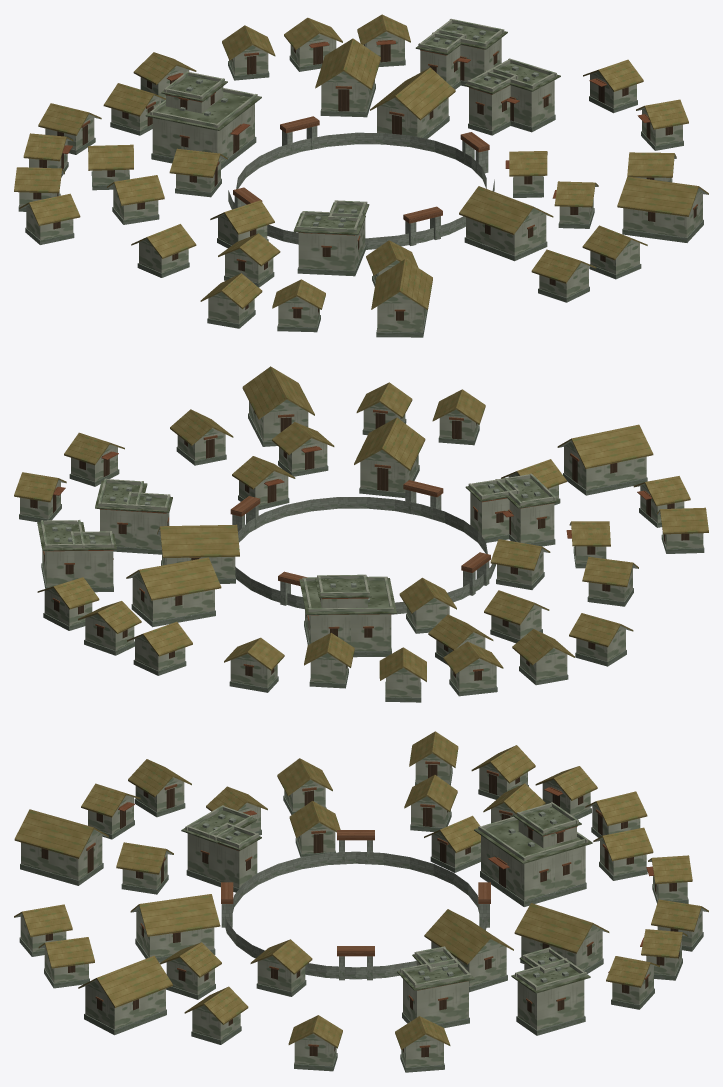
The model's file is ae_jungle_neighbourhood_stone_lod0.glb.
The picture shows the model from 3 angles, top to bottom: view 1: azimuth 30°, elevation 25°; view 2: azimuth 150°, elevation 25°; view 3: azimuth 270°, elevation 25°; orthographic projection. The views are drawn at different scales.
Visible parts, largest first — view 1: ae_jungle_neighbourhood_stone_lod0; view 2: ae_jungle_neighbourhood_stone_lod0; view 3: ae_jungle_neighbourhood_stone_lod0.
Boxes of the visible parts, bbox=[...] form: ae_jungle_neighbourhood_stone_lod0: bbox=[14, 14, 708, 337]; ae_jungle_neighbourhood_stone_lod0: bbox=[14, 366, 708, 702]; ae_jungle_neighbourhood_stone_lod0: bbox=[14, 731, 708, 1072].
Bounding box in the file's own units: 1.89 × 0.1882 × 1.82.
Materials: 1 (1 with a texture image).
